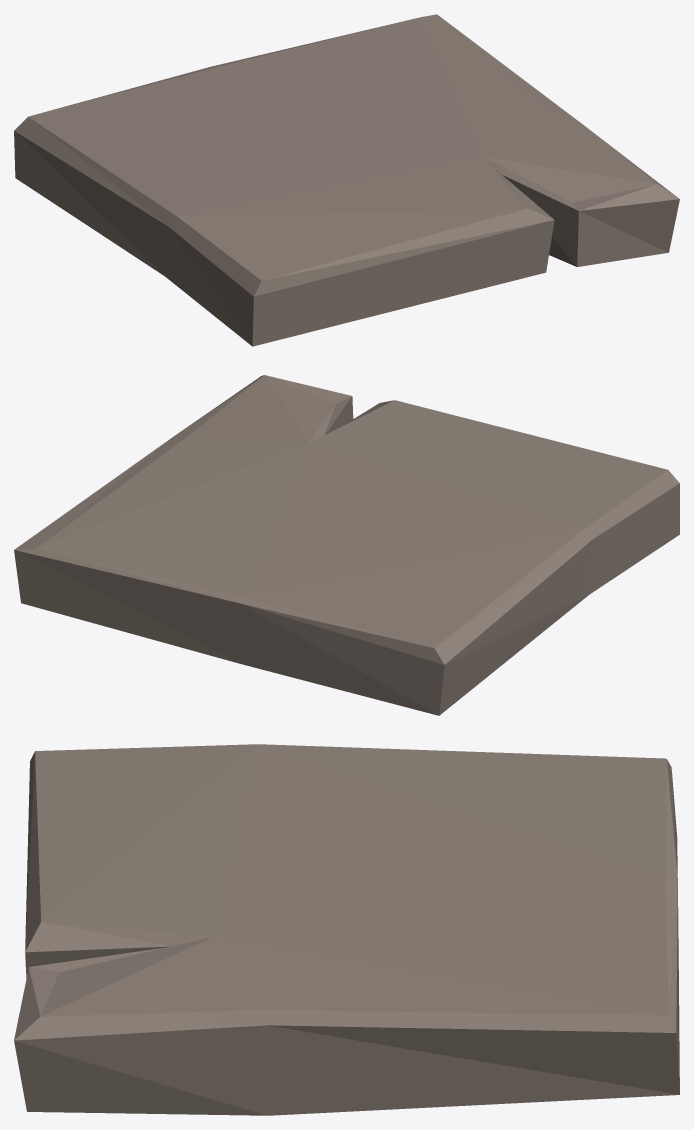
File: test_Tile5.fbx
3 views of the same model, one above another, from view 1: azimuth 30°, elevation 25°; view 2: azimuth 150°, elevation 25°; view 3: azimuth 270°, elevation 25° (orthographic). The views are drawn at different scales.
Parts seen in each view (by area): view 1: Cube.128; view 2: Cube.128; view 3: Cube.128.
Part boxes in pixels (x1=…): Cube.128: x1=14, y1=14, x2=679, y2=346; Cube.128: x1=14, y1=375, x2=679, y2=715; Cube.128: x1=14, y1=744, x2=679, y2=1115.
Bounding box in the file's own units: 205 × 34.99 × 205.
